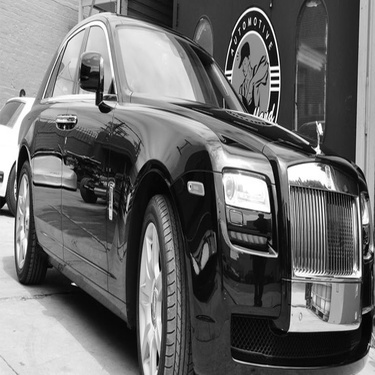car: (2, 15, 353, 365)
